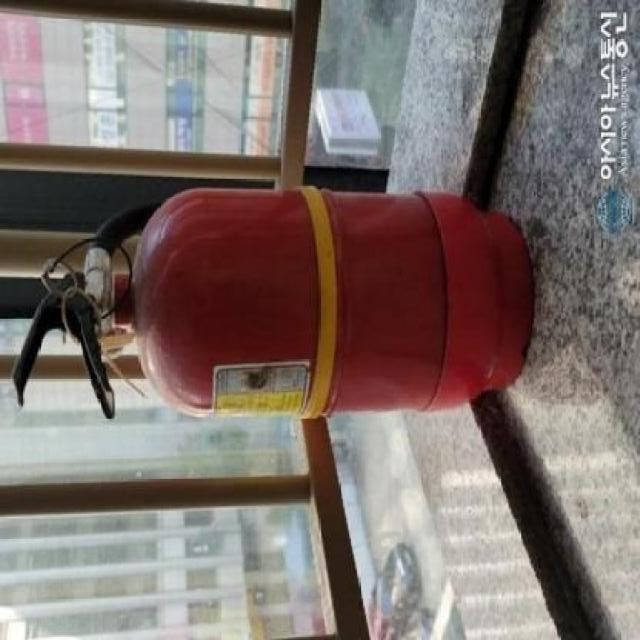fire extinguisher: (11, 187, 534, 421)
